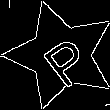P_NW: (29, 23, 92, 87)
